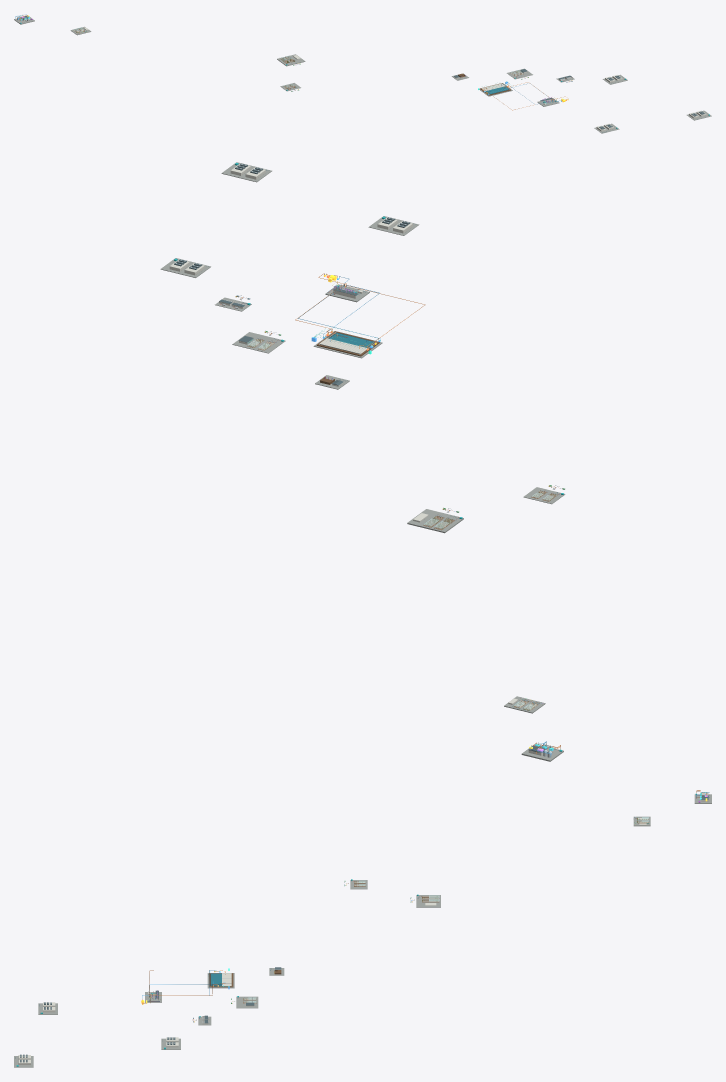
The model's file is facilities.glb.
3 views of the same model, one above another, from view 1: azimuth 30°, elevation 25°; view 2: azimuth 150°, elevation 25°; view 3: azimuth 270°, elevation 25° (orthographic). The views are drawn at different scales.
Bounding box in the file's own units: 5667 × 85.44 × 6215.
